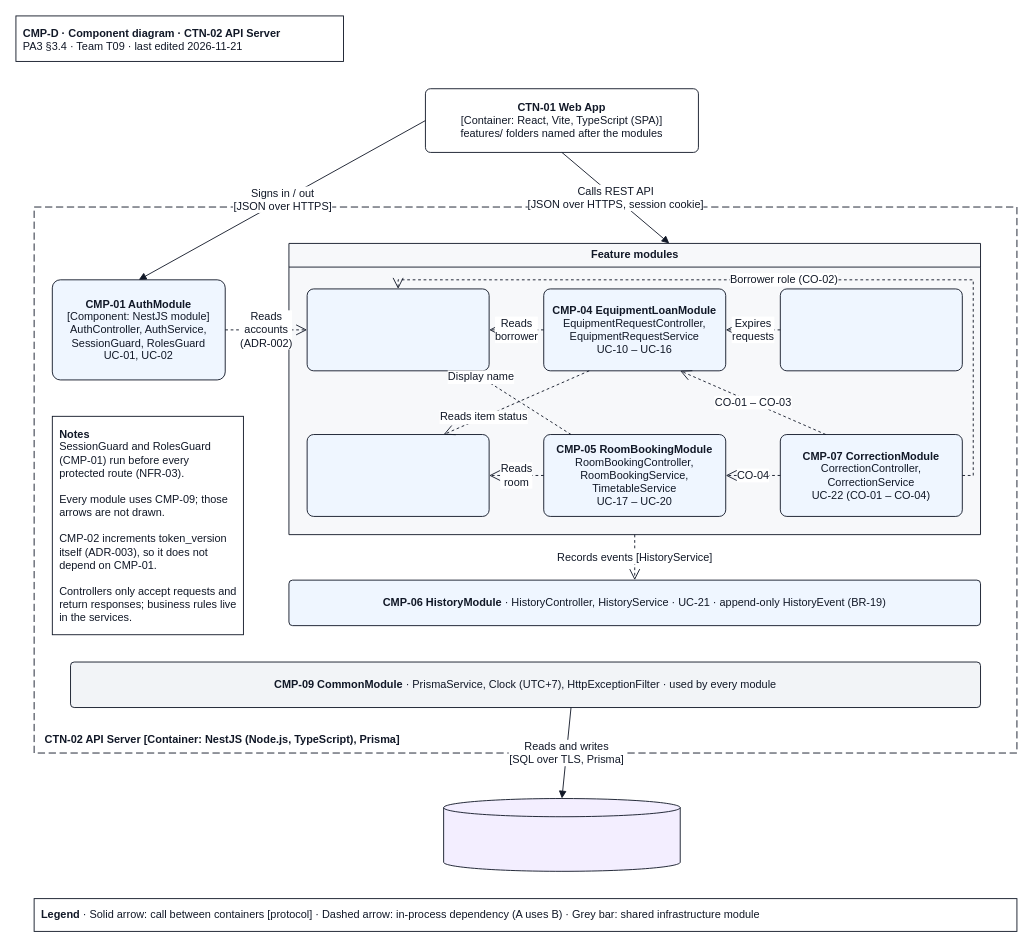
Some shapes in this 1033 by 947 pixel diagram are drawn without their labels. The shapes that lost their labels are listed below. From the top down, each one's centre as x and y in pixels, then its label:
At [397,329]: "CMP-02 AccountModule AccountController, AccountService UC-03 – UC-06".
At [870,329]: "CMP-08 SchedulerModule ExpiryJob FR-03-13 (pickup expiry, I-04)".
At [397,475]: "CMP-03 CatalogModule ResourceController, ResourceService UC-07 – UC-09".
At [561,834]: "CTN-03 Database [Container: PostgreSQL on Supabase]".
